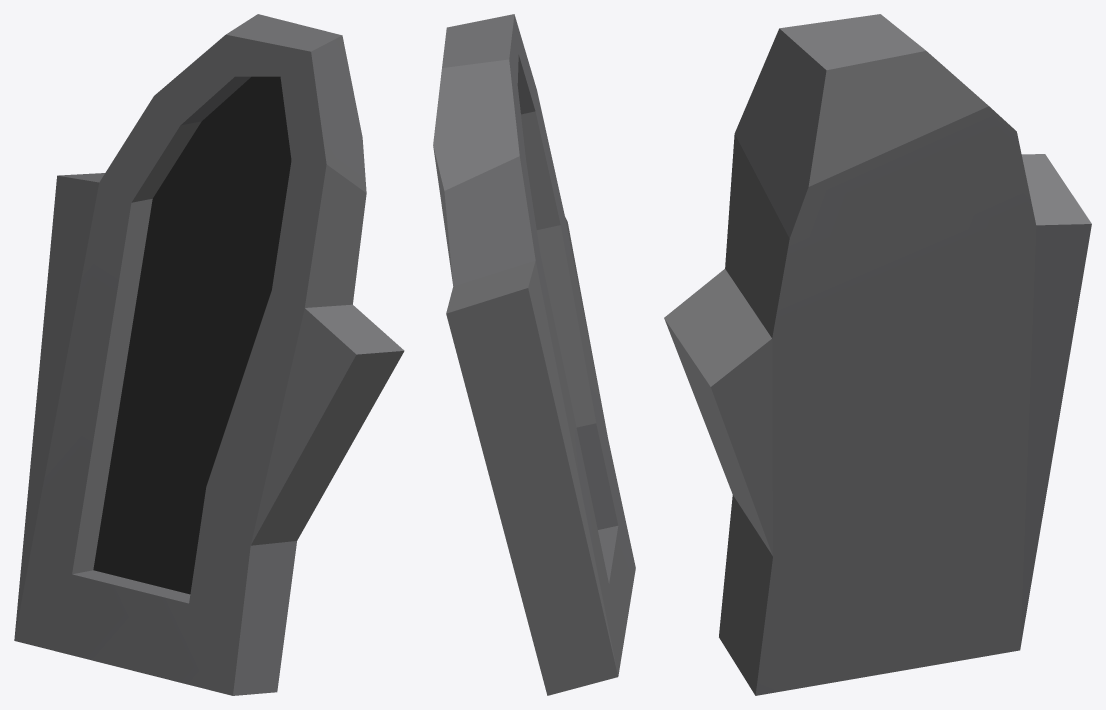
Rendered from ea_grave_stone_mini_01b_pre__7__lev1.glb.
The picture shows the model from 3 angles, left to right: view 1: azimuth 30°, elevation 25°; view 2: azimuth 150°, elevation 25°; view 3: azimuth 270°, elevation 25°; orthographic projection. The views are drawn at different scales.
Visible parts, largest first — view 1: ea_grave_stone_mini_01b_pre__7__lev1; view 2: ea_grave_stone_mini_01b_pre__7__lev1; view 3: ea_grave_stone_mini_01b_pre__7__lev1.
Boxes of the visible parts, bbox=[...] form: ea_grave_stone_mini_01b_pre__7__lev1: bbox=[14, 14, 404, 695]; ea_grave_stone_mini_01b_pre__7__lev1: bbox=[433, 14, 635, 695]; ea_grave_stone_mini_01b_pre__7__lev1: bbox=[664, 14, 1091, 695].
Size of the model in its own units: 0.6689 by 1.49 by 0.8262.
1 material, 1 textured.
